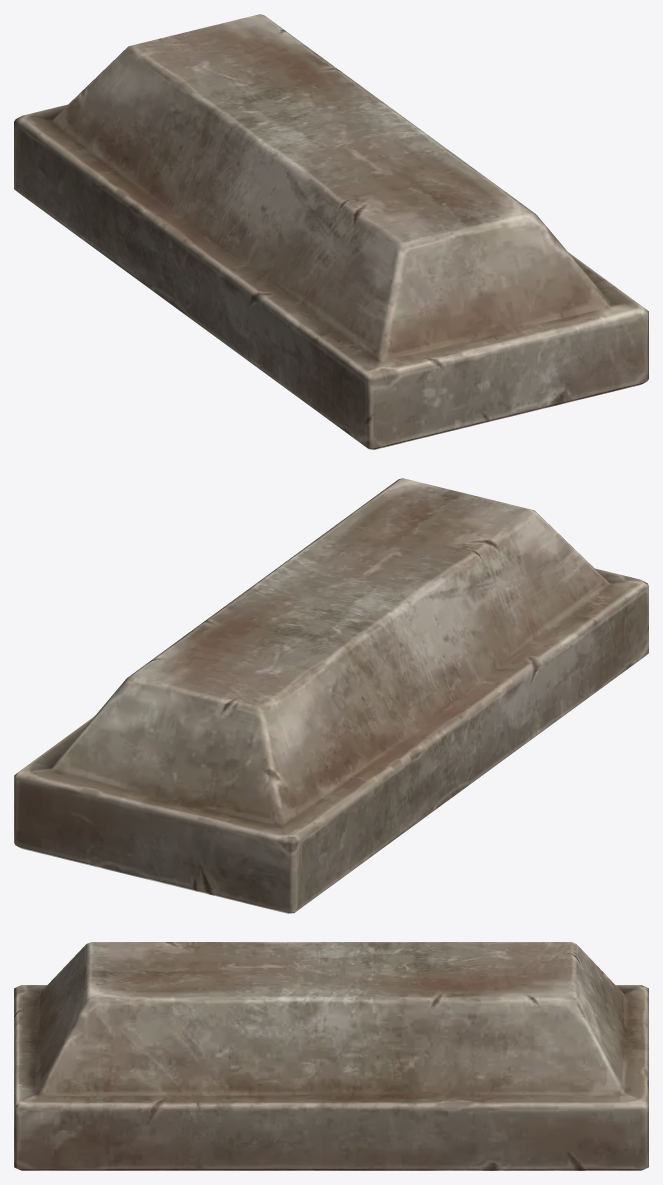
3 renders of one model, top to bottom at view 1: azimuth 30°, elevation 25°; view 2: azimuth 150°, elevation 25°; view 3: azimuth 270°, elevation 25°, orthographic. The views are drawn at different scales.
Visible parts, largest first — view 1: SM_Ingot_Iron_01_LOD0; view 2: SM_Ingot_Iron_01_LOD0; view 3: SM_Ingot_Iron_01_LOD0.
Part boxes in pixels (left/top/right/bottom): SM_Ingot_Iron_01_LOD0: left=14, top=14, right=648, bottom=449; SM_Ingot_Iron_01_LOD0: left=14, top=478, right=648, bottom=913; SM_Ingot_Iron_01_LOD0: left=14, top=942, right=648, bottom=1170.
Size of the model in its own units: 0.2445 by 0.1322 by 0.5369.
1 material, 1 textured.
